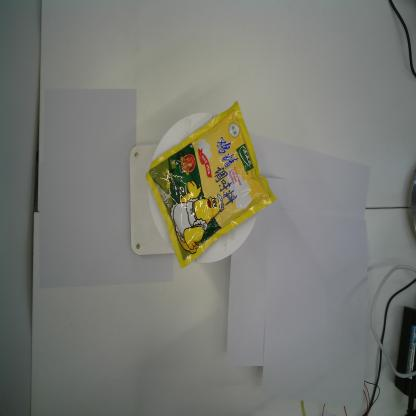Seasoner: (145, 100, 277, 270)
